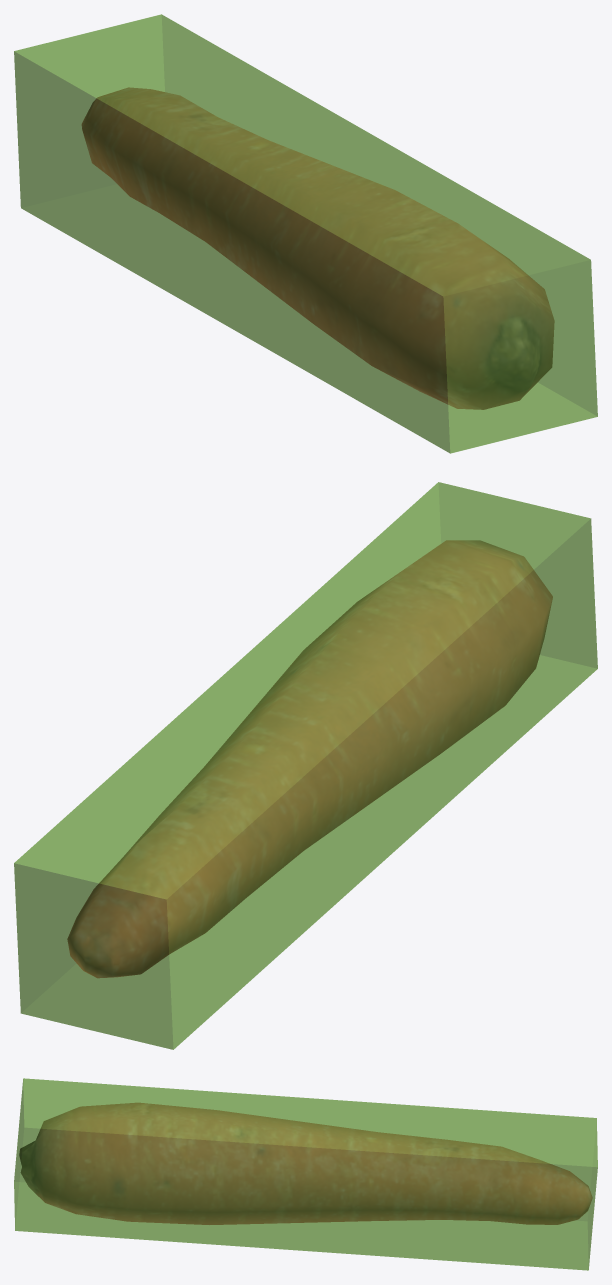
File: pg_Carrot_03.fbx
The picture shows the model from 3 angles, top to bottom: view 1: azimuth 30°, elevation 25°; view 2: azimuth 150°, elevation 25°; view 3: azimuth 270°, elevation 25°; orthographic projection. The views are drawn at different scales.
Parts seen in each view (by area): view 1: pg_Carrot_03_a_col, pg_Carrot_03_a_LOD0; view 2: pg_Carrot_03_a_col, pg_Carrot_03_a_LOD0; view 3: pg_Carrot_03_a_col, pg_Carrot_03_a_LOD0.
Part boxes in pixels (x1,y1,x2,y2): pg_Carrot_03_a_col: (14, 14, 597, 453); pg_Carrot_03_a_LOD0: (81, 87, 554, 409); pg_Carrot_03_a_col: (14, 482, 597, 1049); pg_Carrot_03_a_LOD0: (67, 540, 552, 978); pg_Carrot_03_a_col: (14, 1078, 597, 1270); pg_Carrot_03_a_LOD0: (19, 1102, 592, 1224).
Size of what is drawn, in the model's own units: 3.27 by 4.3 by 15.65.
